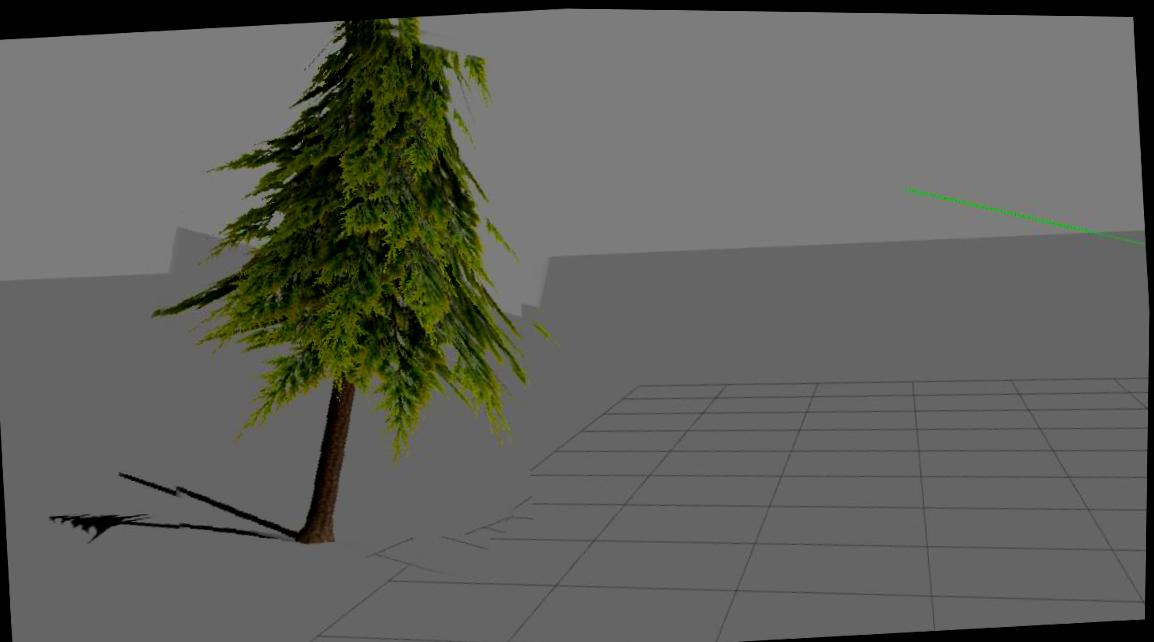tree_gazebo: (160, 26, 526, 543)
